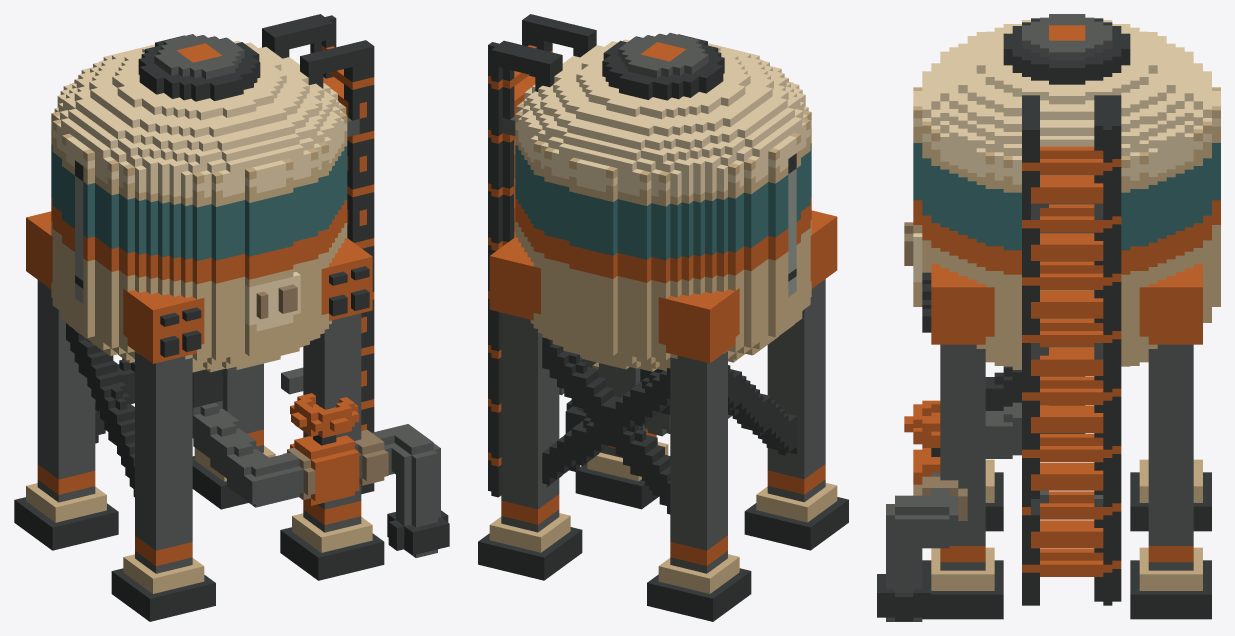
File: water_tower.glb
3 views of the same model, side by side, from view 1: azimuth 30°, elevation 25°; view 2: azimuth 150°, elevation 25°; view 3: azimuth 270°, elevation 25° (orthographic). The views are drawn at different scales.
Parts seen in each view (by area): view 1: water_tower; view 2: water_tower; view 3: water_tower.
Boxes of the visible parts, x1,y1,x2,y2 form: water_tower: (14, 14, 449, 621); water_tower: (478, 14, 848, 621); water_tower: (877, 14, 1220, 621).
Bounding box in the file's own units: 3.2 × 5.12 × 3.04.
